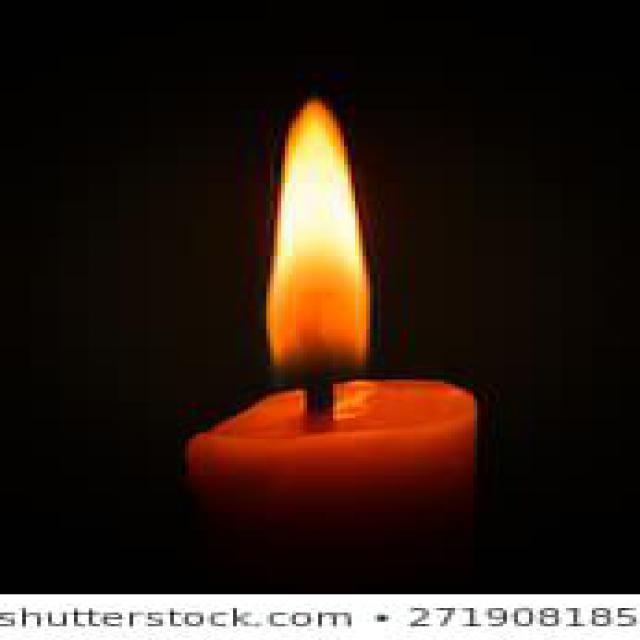Fire: (268, 98, 372, 389)
